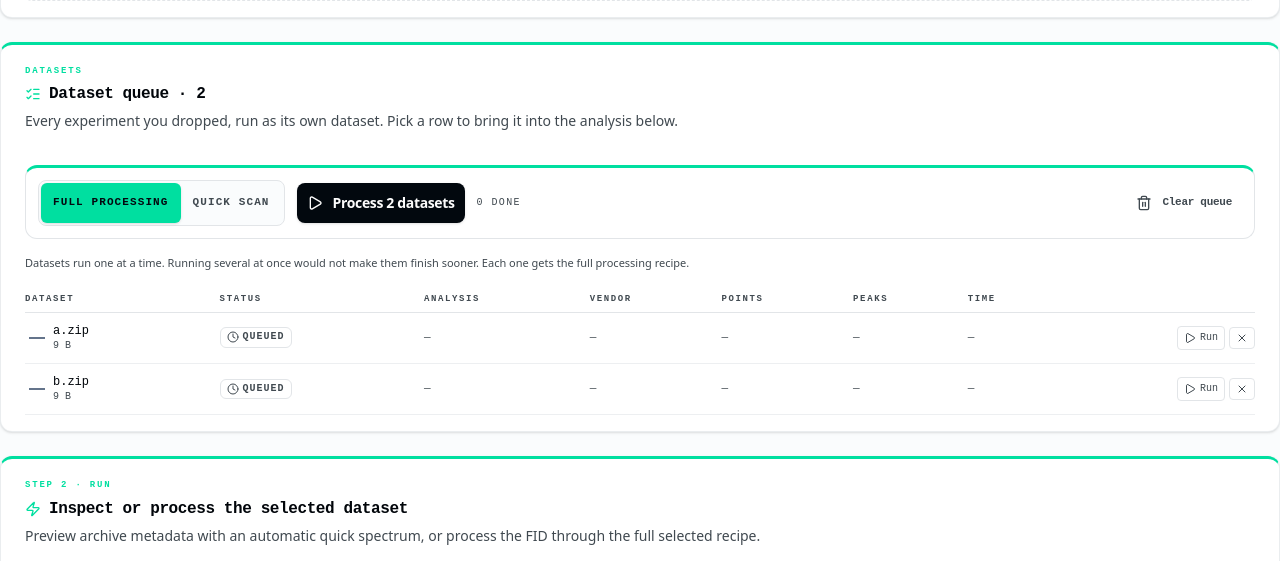
Test: queueing several datasets › removes one dataset without disturbing the rest
Earlier steps of the test are not shown.
(page scrolled)
Click the button named "Remove a.zip": (1242, 338) [1229,327,1255,349]
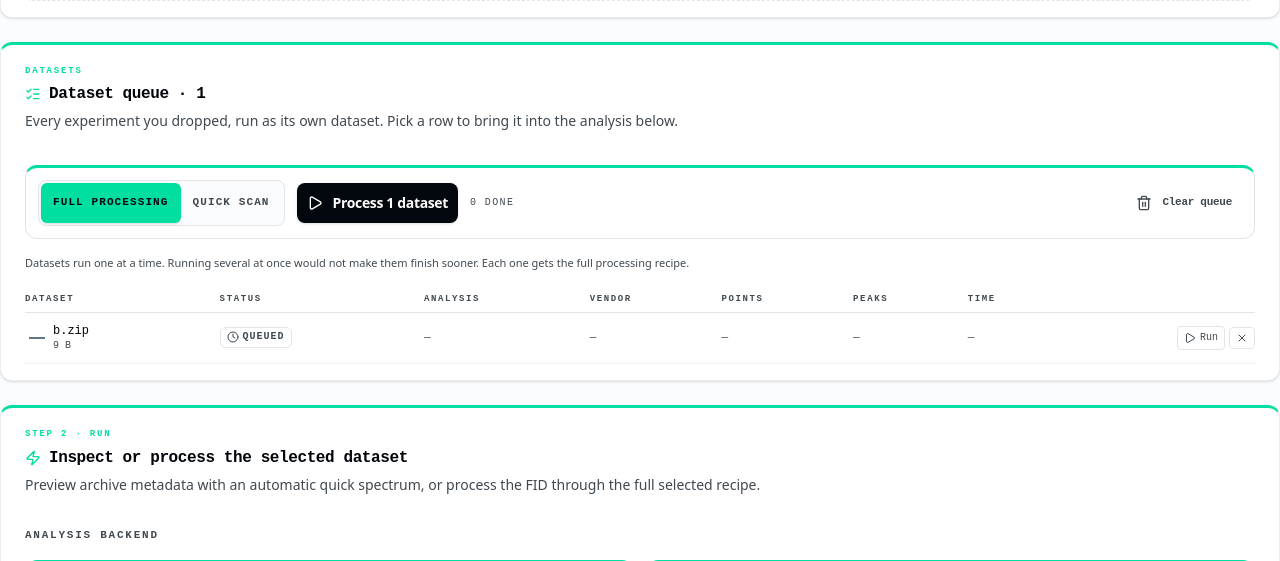
Expected: the text "b.zip" is shown, [53,323,89,339]
Now the button "a.zip" is gone
